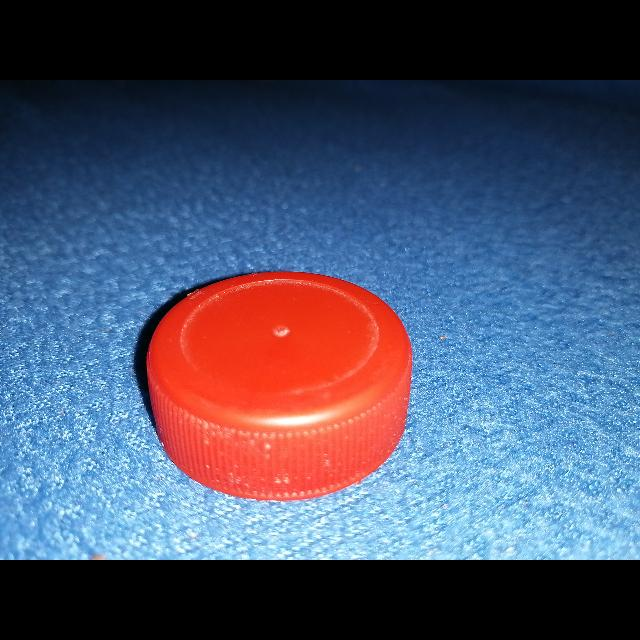plastic_bottle_cap: (142, 272, 414, 498)
